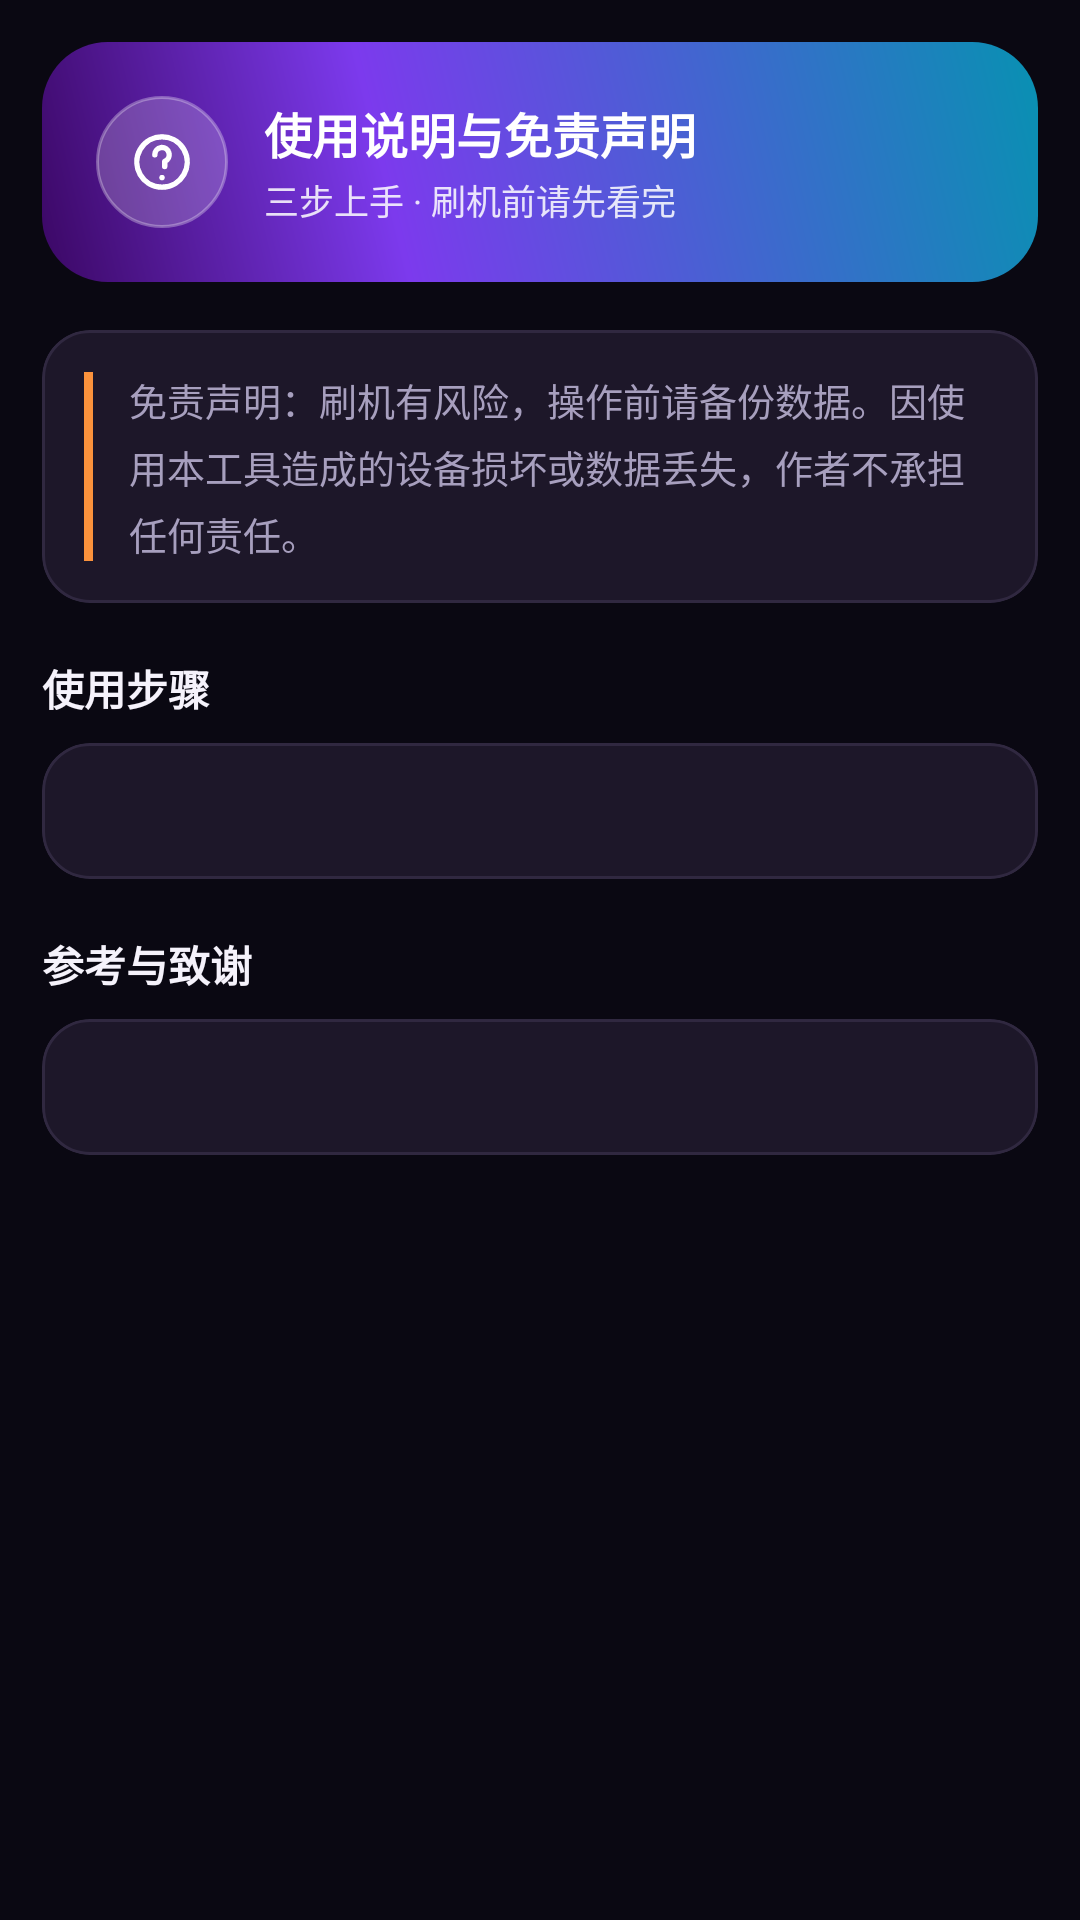

Screen size 1080 x 1920. Icon name, then its box in pixels as region(x1, y1, x2, y2):
help: region(134, 126, 198, 198)
